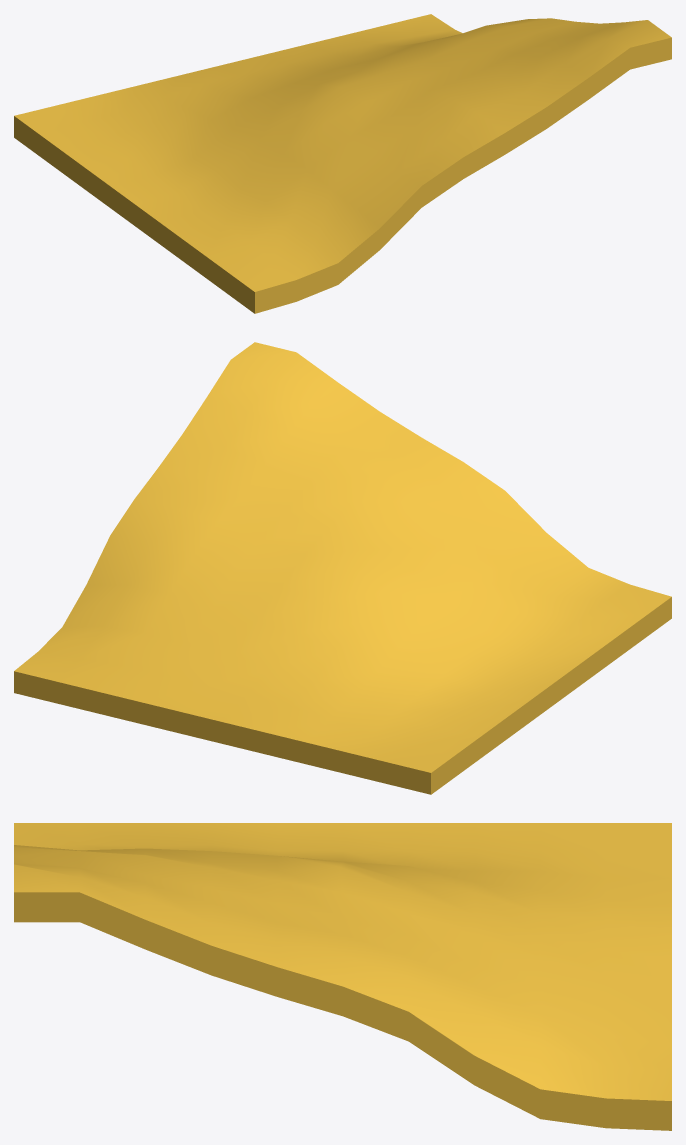
The model's file is Flach - Mitte - Ecke a -  a.fbx.
3 renders of one model, top to bottom at view 1: azimuth 30°, elevation 25°; view 2: azimuth 150°, elevation 25°; view 3: azimuth 270°, elevation 25°, orthographic. The views are drawn at different scales.
Parts seen in each view (by area): view 1: Flach - Mitte - Ecke a - a; view 2: Flach - Mitte - Ecke a - a; view 3: Flach - Mitte - Ecke a - a.
Boxes of the visible parts, <box> form: Flach - Mitte - Ecke a - a: <box>14,14,671,313</box>; Flach - Mitte - Ecke a - a: <box>14,342,671,794</box>; Flach - Mitte - Ecke a - a: <box>14,823,671,1130</box>.
Bounding box in the file's own units: 394 × 157 × 394.
